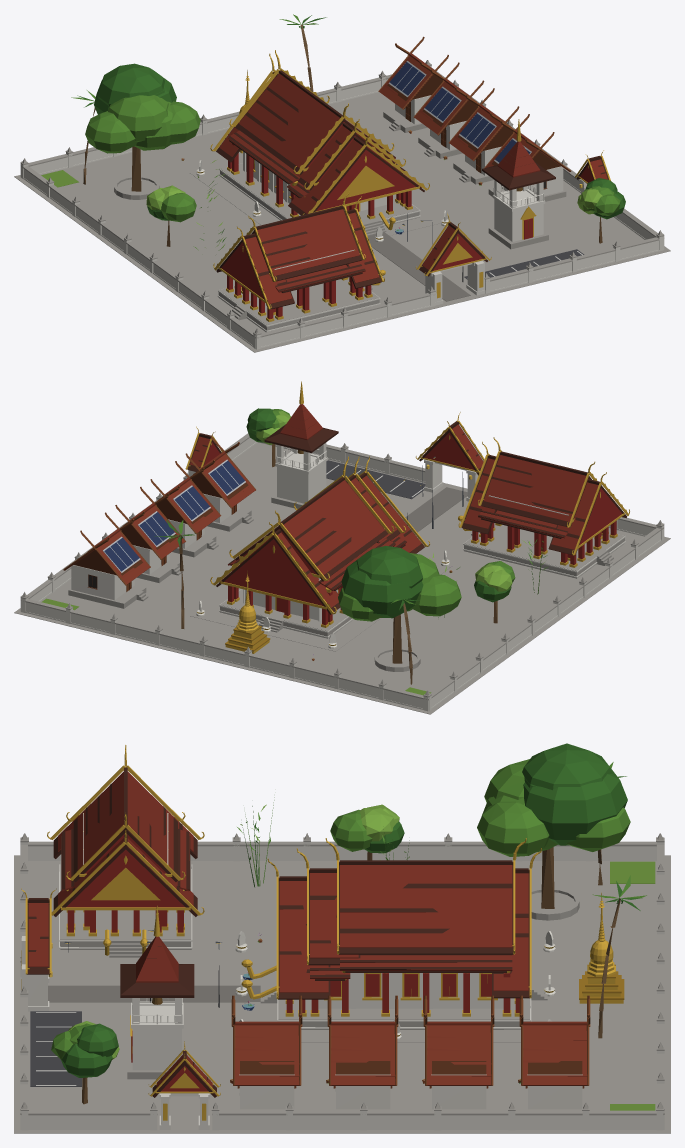
File: temple_2.glb
3 renders of one model, top to bottom at view 1: azimuth 30°, elevation 25°; view 2: azimuth 150°, elevation 25°; view 3: azimuth 270°, elevation 25°, orthographic. The views are drawn at different scales.
Parts seen in each view (by area): view 1: body; view 2: body; view 3: body.
Part boxes in pixels (left/top/right/bottom): body: left=14, top=14, right=670, bottom=352; body: left=14, top=381, right=670, bottom=714; body: left=14, top=743, right=670, bottom=1133.
Bounding box in the file's own units: 47.9 × 13.33 × 47.9.
